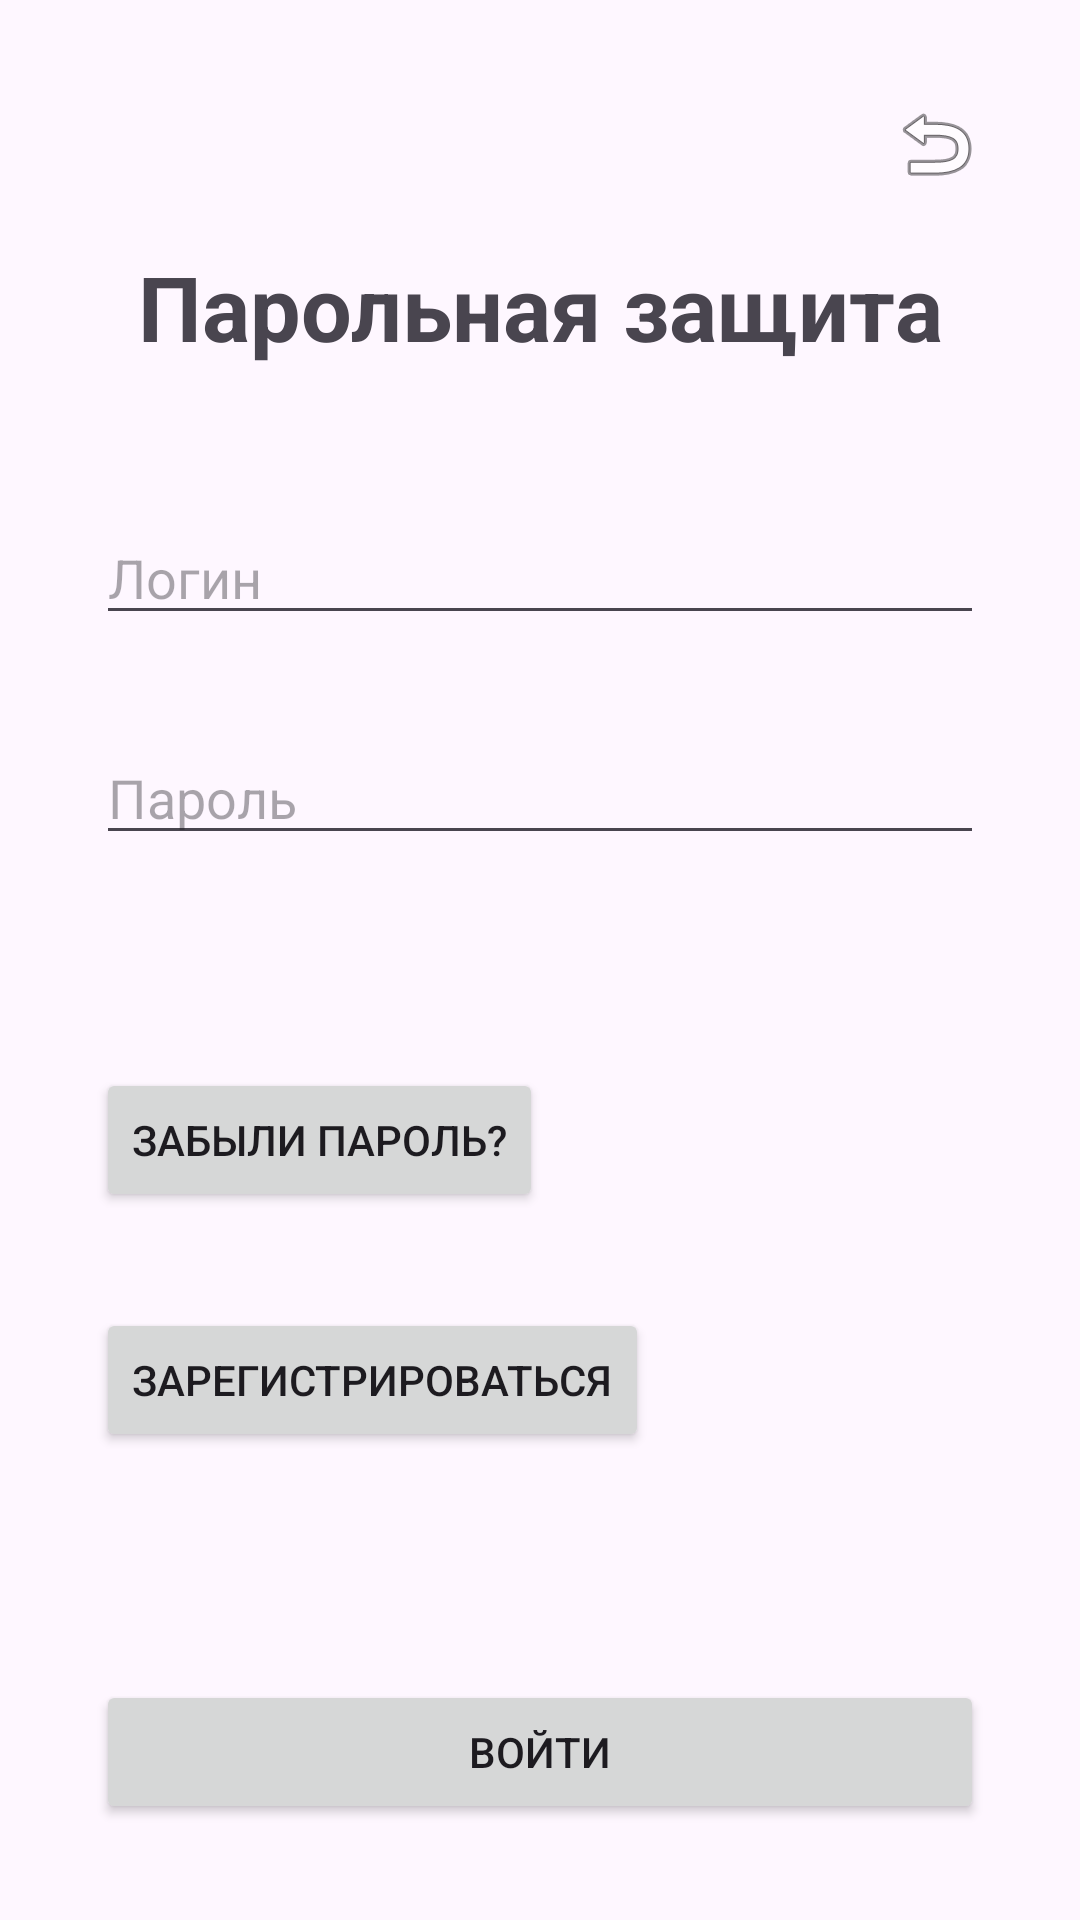

Screen size 1080×1920. Icon name, then its center in pixels as [x,y]:
revert: [937,144]
